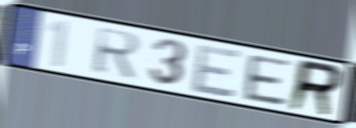1: (47, 18, 70, 69)
3: (146, 37, 189, 88)
E: (190, 43, 244, 100), (243, 53, 293, 109)
R: (285, 57, 346, 119), (91, 25, 144, 81)
